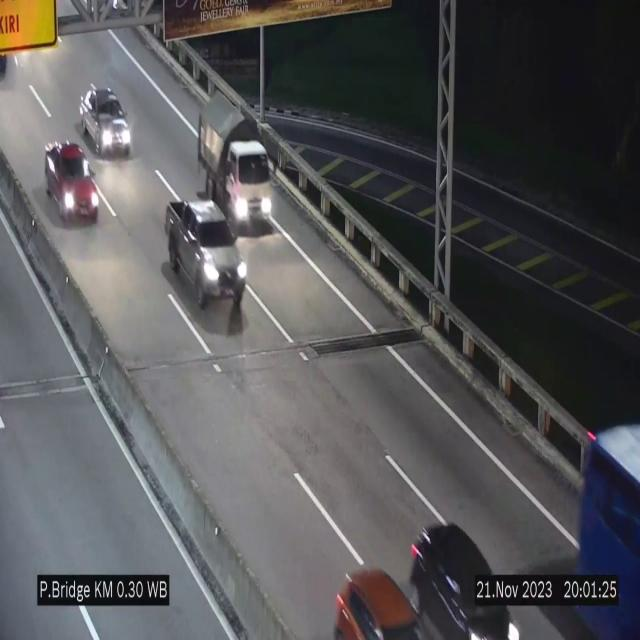Bus: (564, 398, 640, 640)
Car: (402, 509, 520, 640), (165, 199, 246, 317), (325, 564, 433, 640), (44, 142, 99, 222), (80, 87, 132, 156)
Truck: (198, 100, 272, 230)
